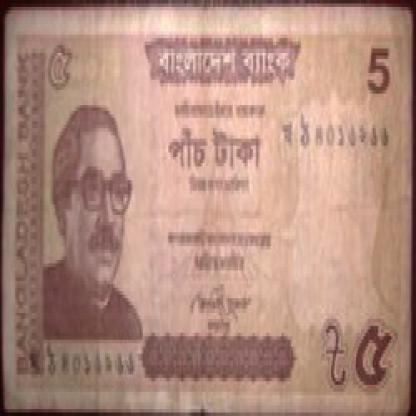Five Taka: (161, 118, 268, 177), (351, 315, 398, 398), (364, 42, 394, 108), (45, 35, 80, 86)
